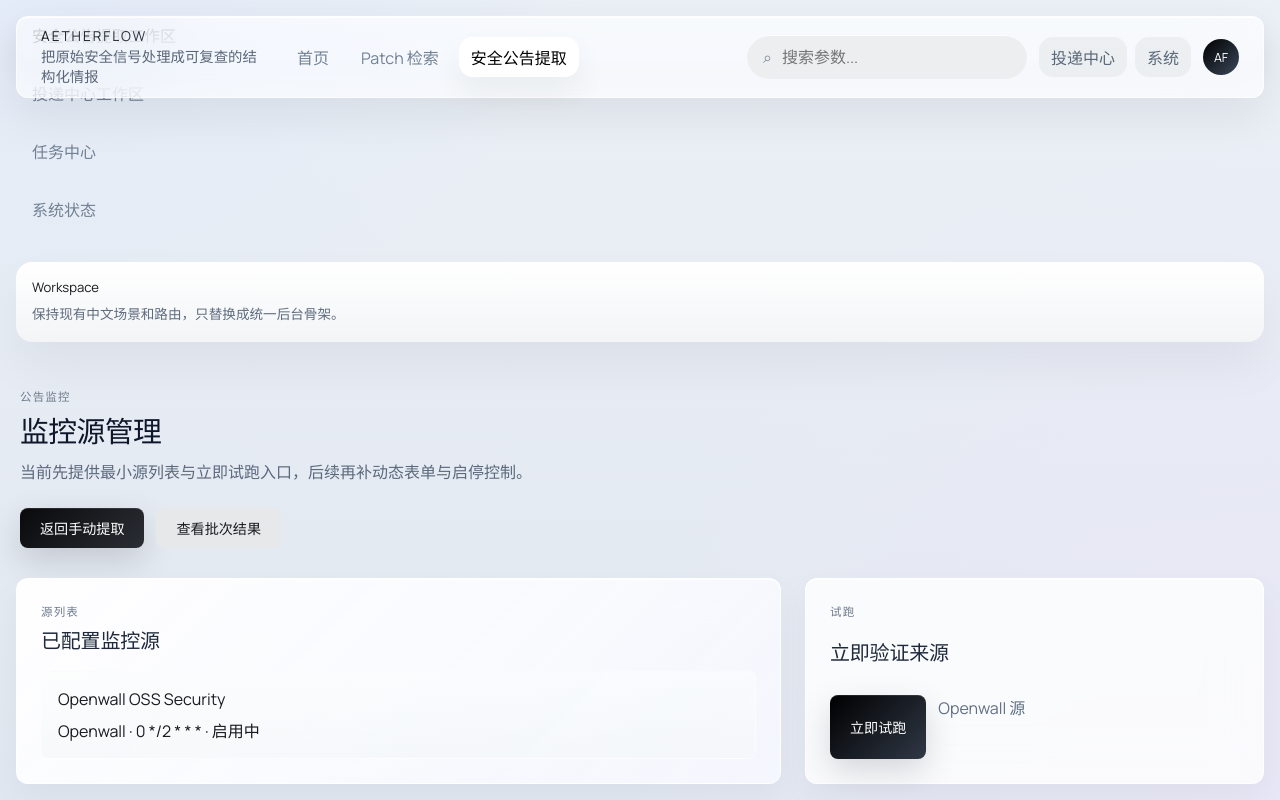
Scenario: announcement sources page loads source list and exposes run-now action
(page scrolled)
Expected: the text "Openwall OSS Security" is shown, [58,688,226,710]
Click the button "立即试跑" at (878, 727), box [830,695,926,759]
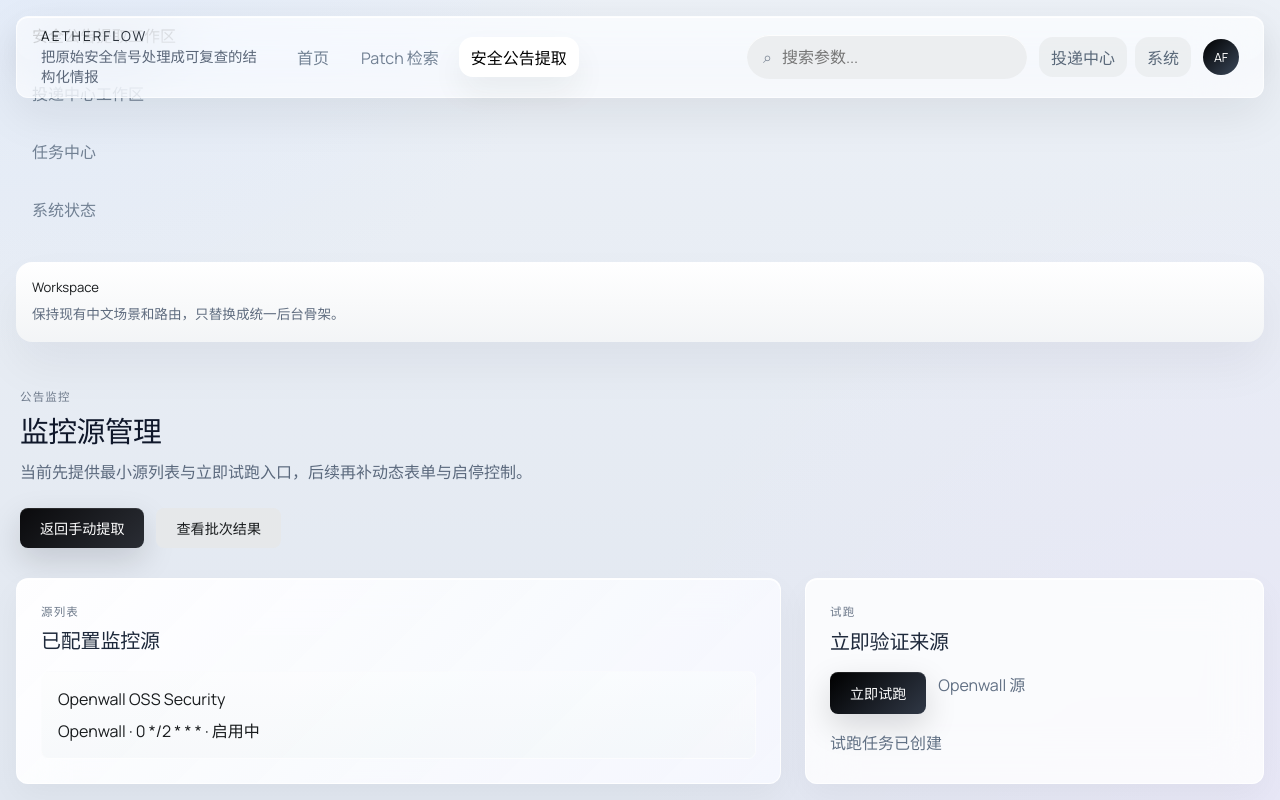
Expected: the text "试跑任务已创建" is shown, [830,732,942,754]
